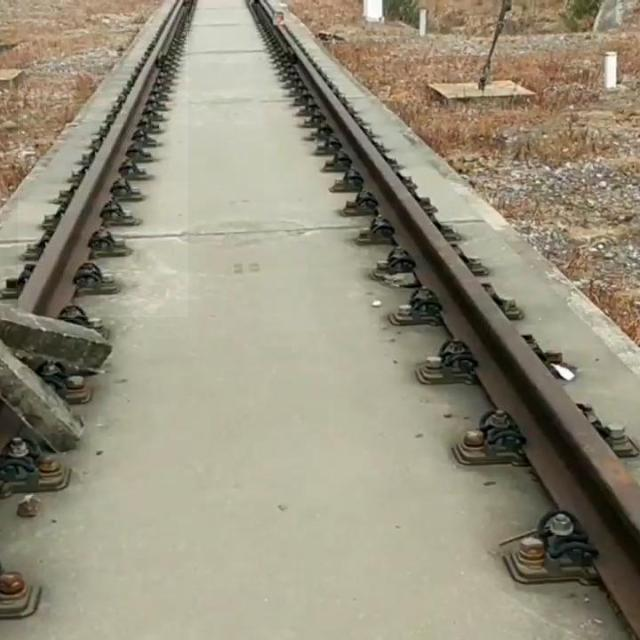rail: (251, 2, 640, 623), (19, 1, 189, 318)
